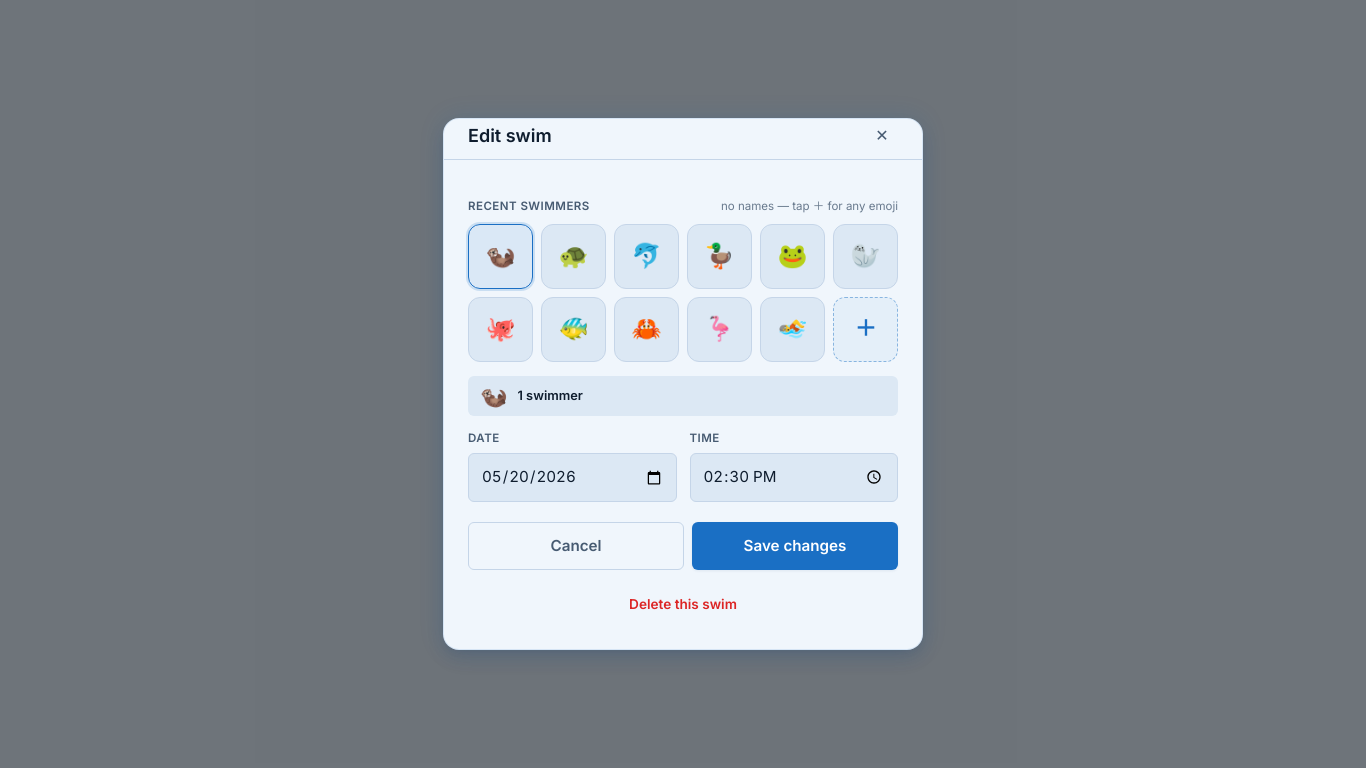
Test: SwimLogForm › delete flow › shows inline confirm after clicking "Delete this swim"
Click the button "Delete this swim" at (683, 605), box [468, 584, 898, 625]
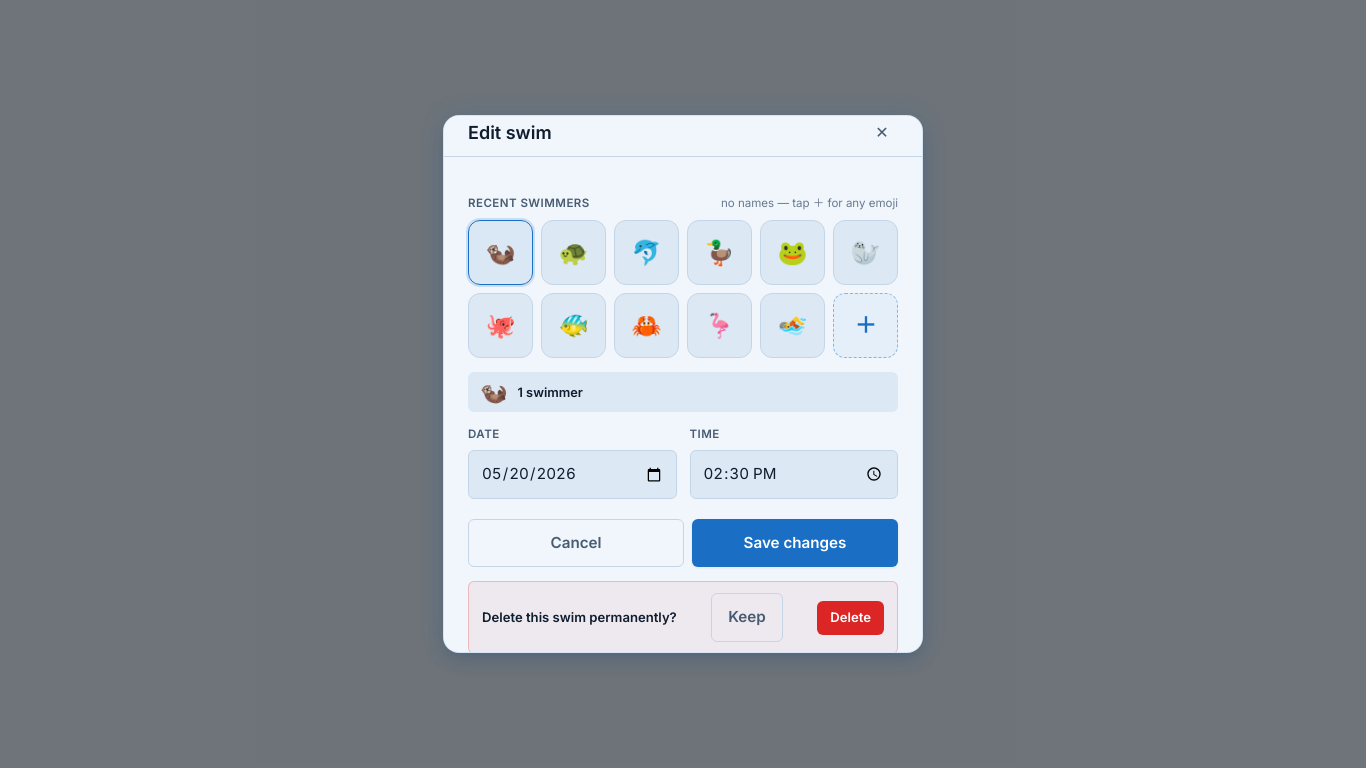
Expected: the text "Delete this swim permanently?" is shown, [482, 608, 677, 628]
